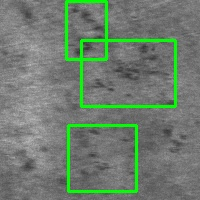rolled-in_scale: (81, 40, 175, 106), (69, 125, 136, 191), (66, 1, 106, 59)
